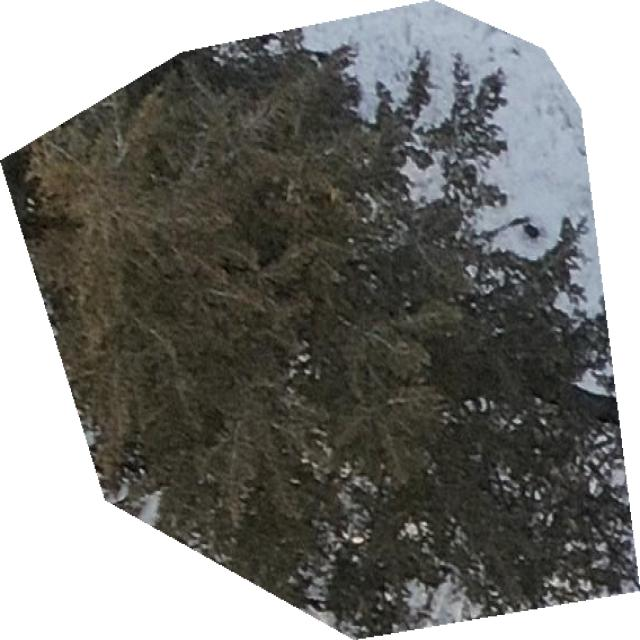spruce: (0, 4, 639, 639)
